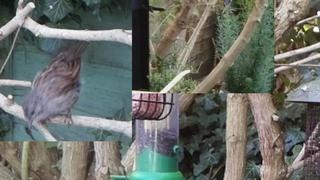dunnock: (22, 40, 92, 129)
